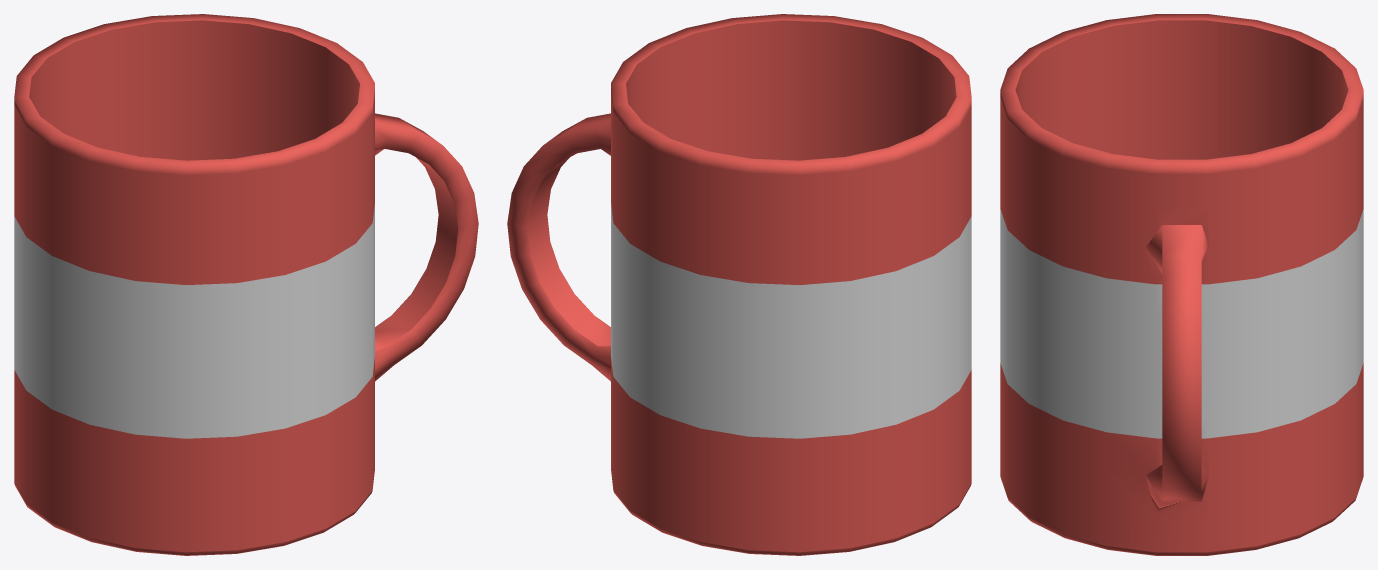
Rendered from mug_02.gltf.
The picture shows the model from 3 angles, left to right: view 1: azimuth 30°, elevation 25°; view 2: azimuth 150°, elevation 25°; view 3: azimuth 270°, elevation 25°; orthographic projection.
Visible parts, largest first — view 1: Body, Bot_Band, Top_Band, Handle, Rim, Base; view 2: Body, Bot_Band, Top_Band, Handle, Rim, Base; view 3: Body, Bot_Band, Top_Band, Handle, Rim, Base.
Boxes of the visible parts, x1,y1,x2,y2 form: Body: (14,20,374,552); Bot_Band: (14,270,374,438); Top_Band: (14,204,374,350); Handle: (375,113,478,381); Rim: (14,14,374,175); Base: (14,483,372,555); Body: (611,20,971,552); Bot_Band: (611,270,971,438); Top_Band: (611,204,971,350); Handle: (507,113,610,381); Rim: (611,14,971,175); Base: (613,483,971,555); Body: (1000,20,1363,552); Bot_Band: (1000,275,1363,438); Top_Band: (1000,209,1363,350); Handle: (1146,225,1208,501); Rim: (1000,14,1363,174); Base: (1001,480,1362,555).
Size of the model in its own units: 0.1149 by 0.1 by 0.084.
